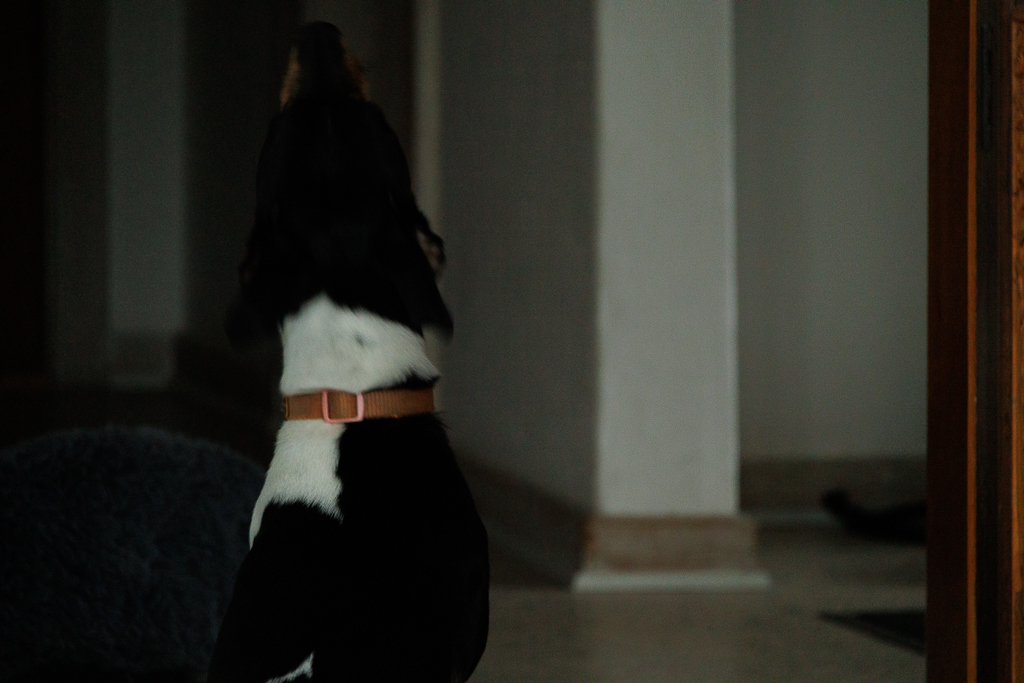Dog: (170, 9, 507, 683)
